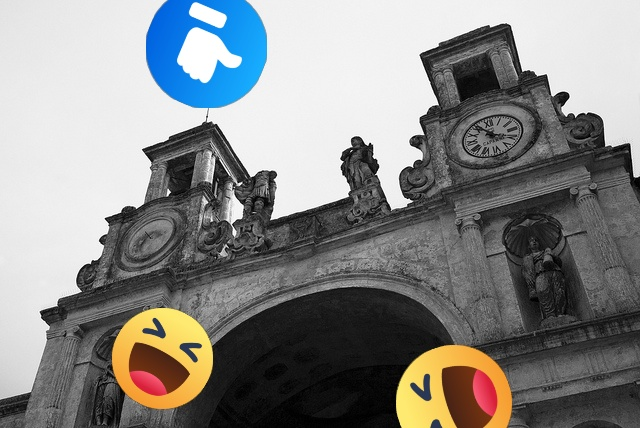haha: (112, 308, 213, 409), (396, 345, 512, 428)
like: (146, 0, 267, 108)
